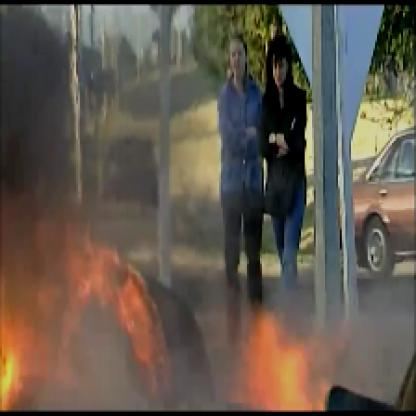Fire: (2, 219, 330, 414)
